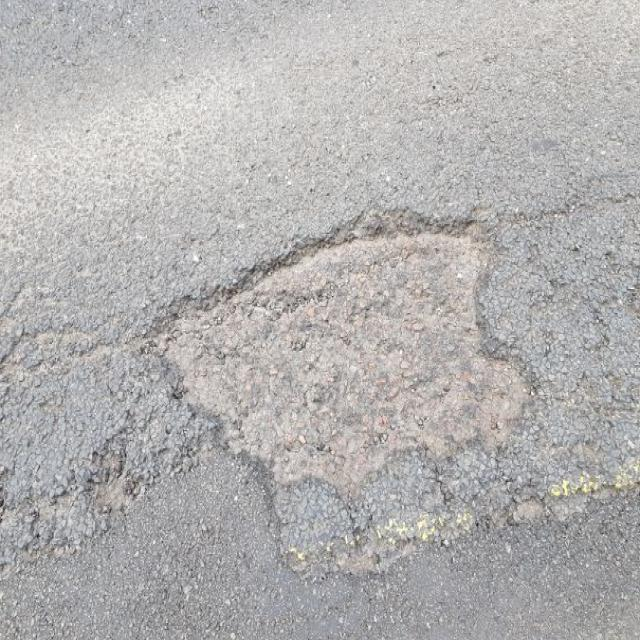Pothole: (147, 201, 546, 499)
